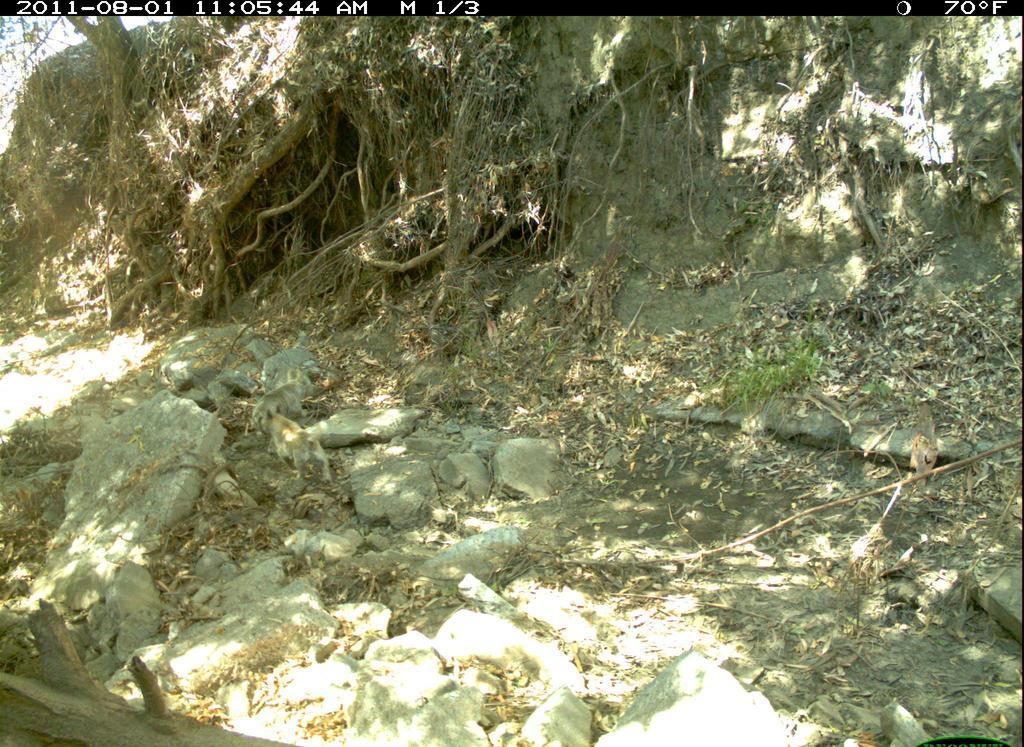dog: (257, 405, 338, 489)
